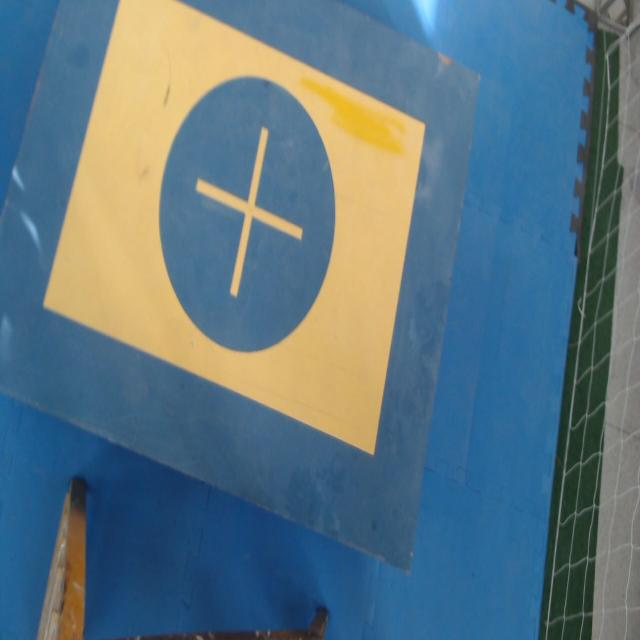base_inicio: (44, 0, 425, 455)
